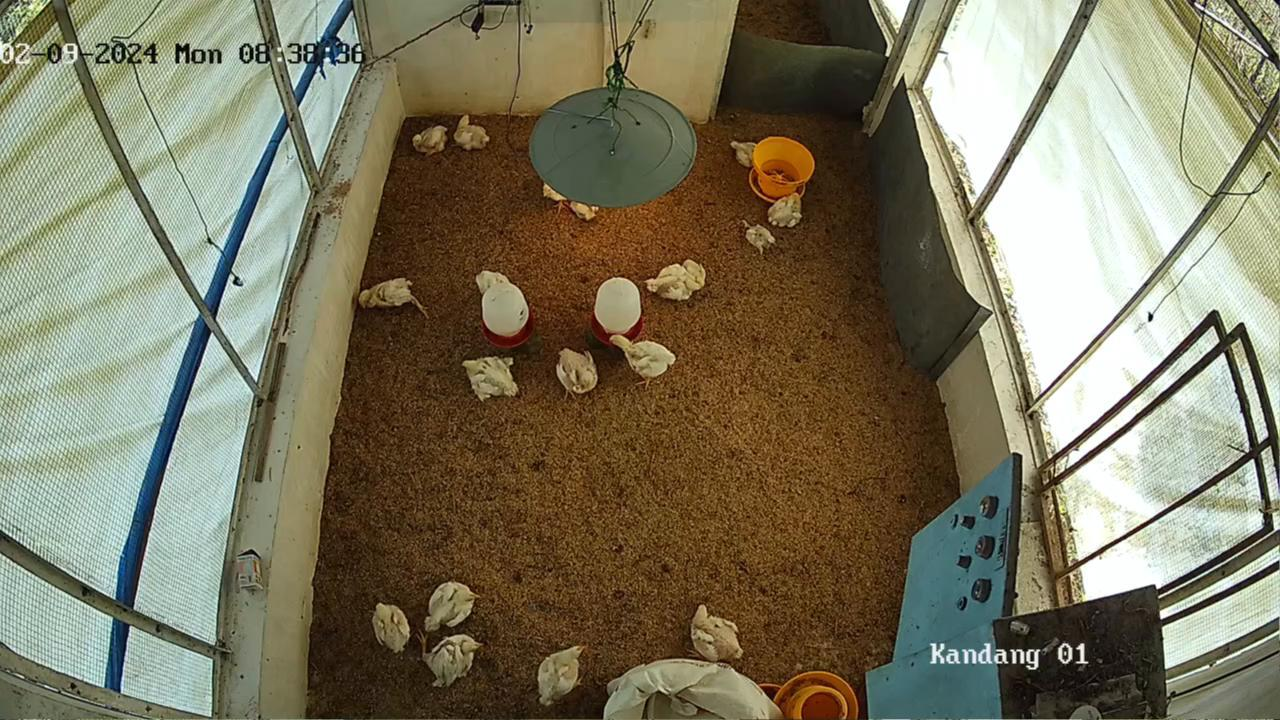chicken: (424, 632, 487, 691), (687, 600, 745, 664), (422, 574, 487, 631), (608, 333, 677, 382), (538, 643, 590, 708), (458, 351, 520, 403), (371, 599, 412, 656), (358, 274, 415, 314), (555, 346, 598, 396), (643, 263, 696, 303), (766, 190, 804, 229), (452, 113, 491, 151), (411, 123, 449, 157), (727, 137, 763, 169), (744, 222, 778, 255), (476, 267, 513, 295), (682, 258, 706, 290), (542, 183, 570, 206), (571, 201, 600, 221)
